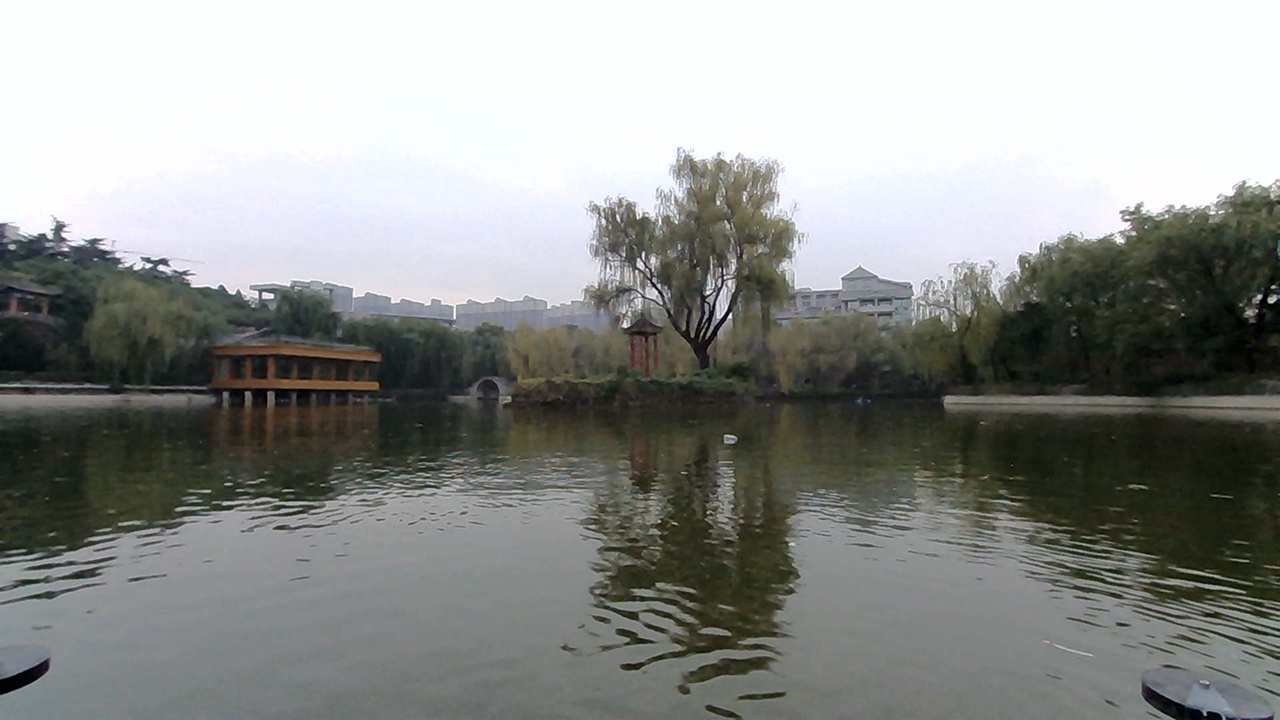bottle: (712, 420, 767, 452)
